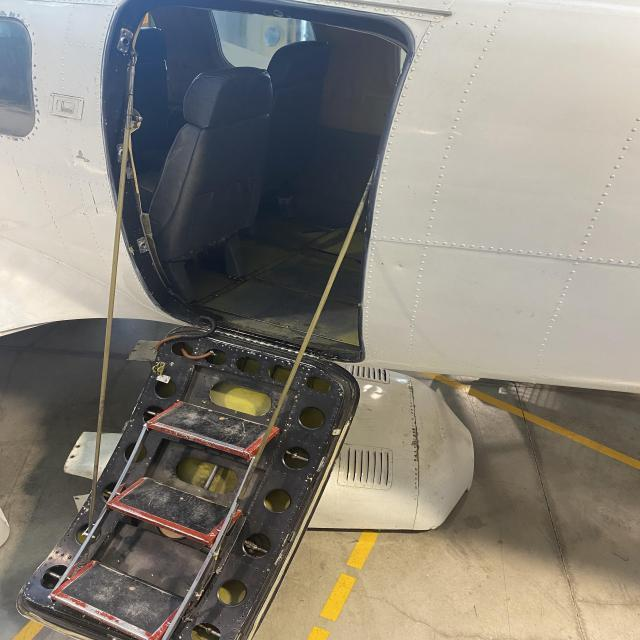Dent: (394, 258, 406, 271)
